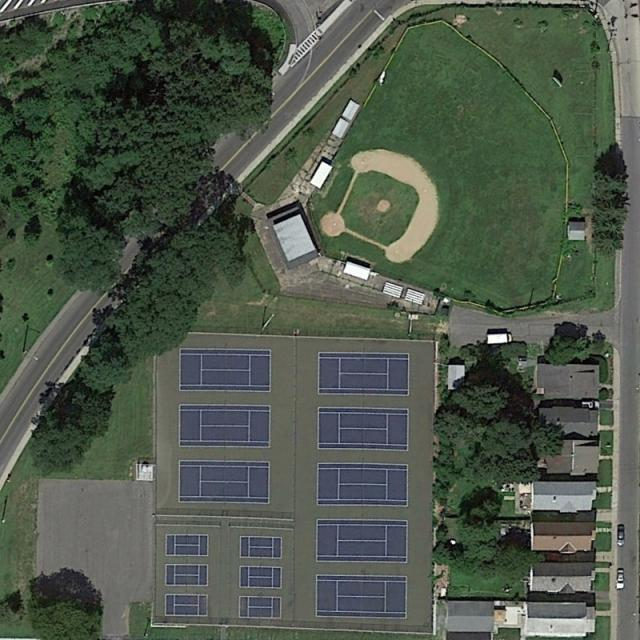vehicle: (486, 333, 512, 344), (581, 400, 600, 410), (618, 525, 626, 546), (617, 570, 624, 590)
